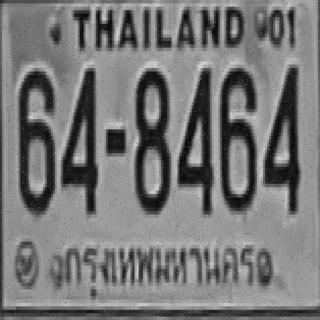N04: (60, 64, 97, 211), (263, 61, 298, 211), (177, 64, 212, 211)
N06: (218, 65, 255, 208), (16, 68, 53, 211)
N08: (132, 64, 169, 211)
P04: (59, 235, 260, 307)
